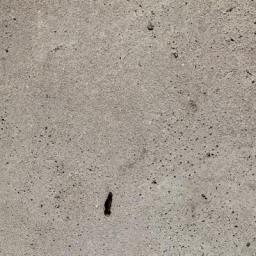FOD: (99, 190, 118, 221)
